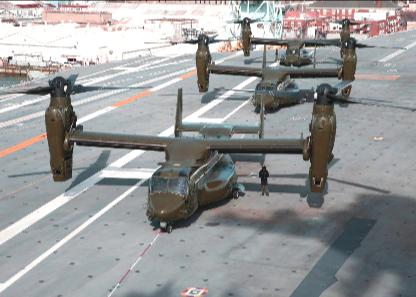Tornado: (0, 73, 415, 233), (144, 32, 406, 113), (206, 15, 386, 65)
